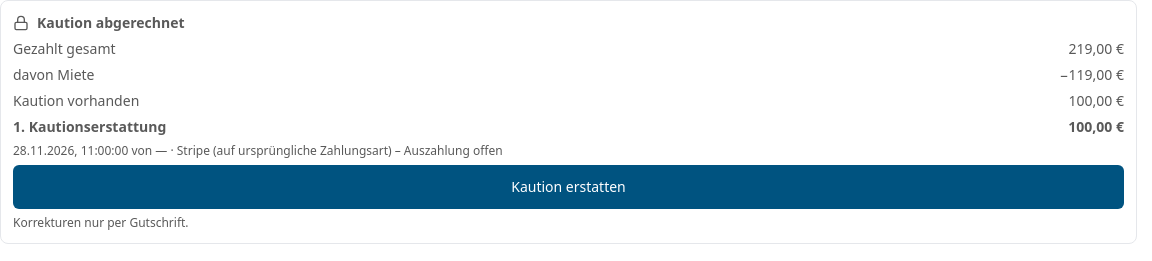
Test case: keeps a second click disabled while the first provider reconciliation is unresolved
Later steps or results of the test are not shown.
Click the button "Kaution erstatten": (568, 187) [13, 165, 1124, 209]
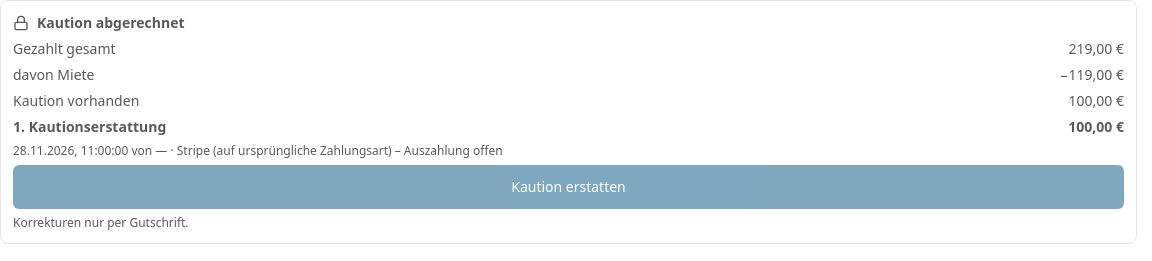
Click the button "Kaution erstatten": (568, 187) [13, 165, 1124, 209]
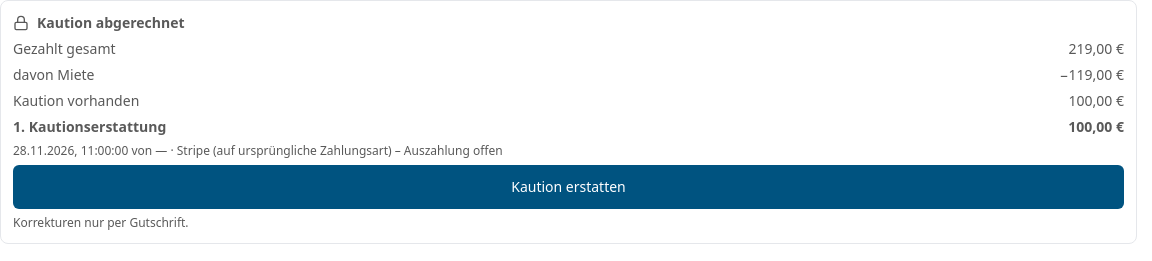
Check: the button "Kaution erstatten" is enabled, box [13, 165, 1124, 209]
